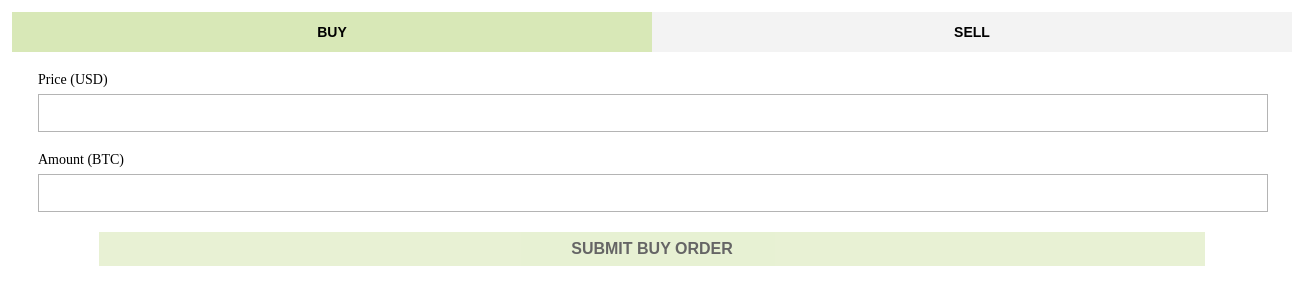
Scenario: CreateOrderForm › Should be able to switch between buy and sell order
Click the button with test id "ASK": (972, 32) [652,12,1292,52]
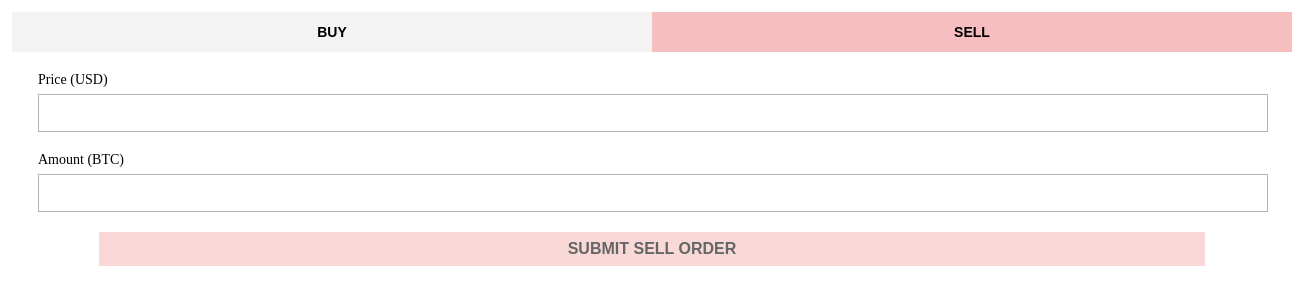
Result: the button "SUBMIT SELL ORDER" is shown at [99,232,1205,266]
Click the button with test id "BID": (332, 32) [12,12,652,52]
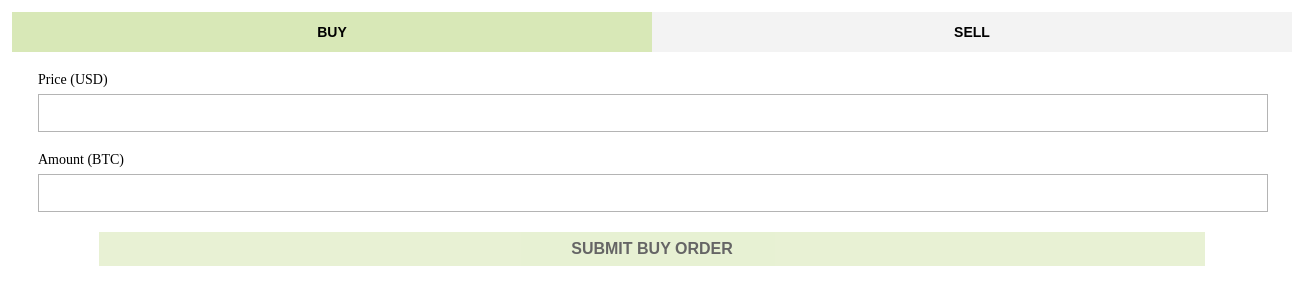
Result: the button "SUBMIT BUY ORDER" is shown at [99,232,1205,266]
